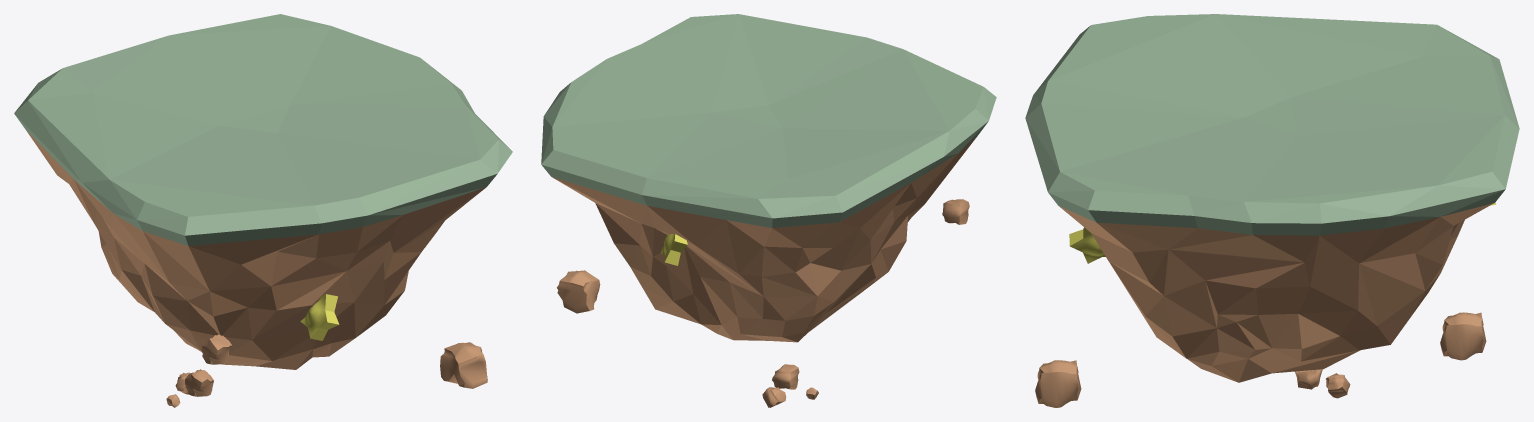
File: SM_Island.fbx
The picture shows the model from 3 angles, left to right: view 1: azimuth 30°, elevation 25°; view 2: azimuth 150°, elevation 25°; view 3: azimuth 270°, elevation 25°; orthographic projection. The views are drawn at different scales.
Visible parts, largest first — view 1: Floating_Island2; view 2: Floating_Island2; view 3: Floating_Island2.
Part boxes in pixels (x1,y1,x2,y2): Floating_Island2: (14,14,512,407); Floating_Island2: (541,14,996,407); Floating_Island2: (1025,14,1519,407).
Size of the model in its own units: 485 by 352 by 503.
